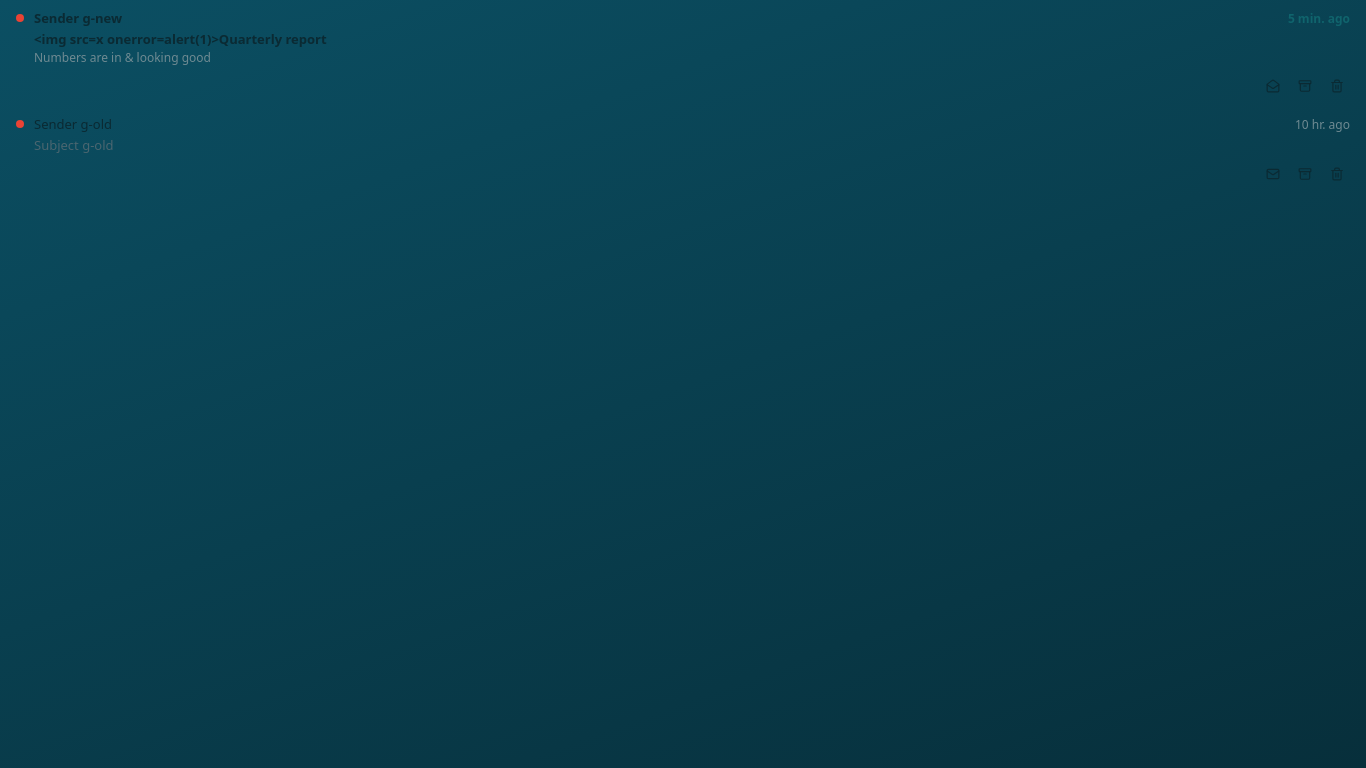
Test: MailWidget › trash is optimistic and rolled back with an error toast when it fails
Expected: the text "Sender g-new" is shown, [34, 9, 122, 27]
Click the button named "Move to trash" below "5 min. ago" at [1337, 86], box [1322, 71, 1352, 101]
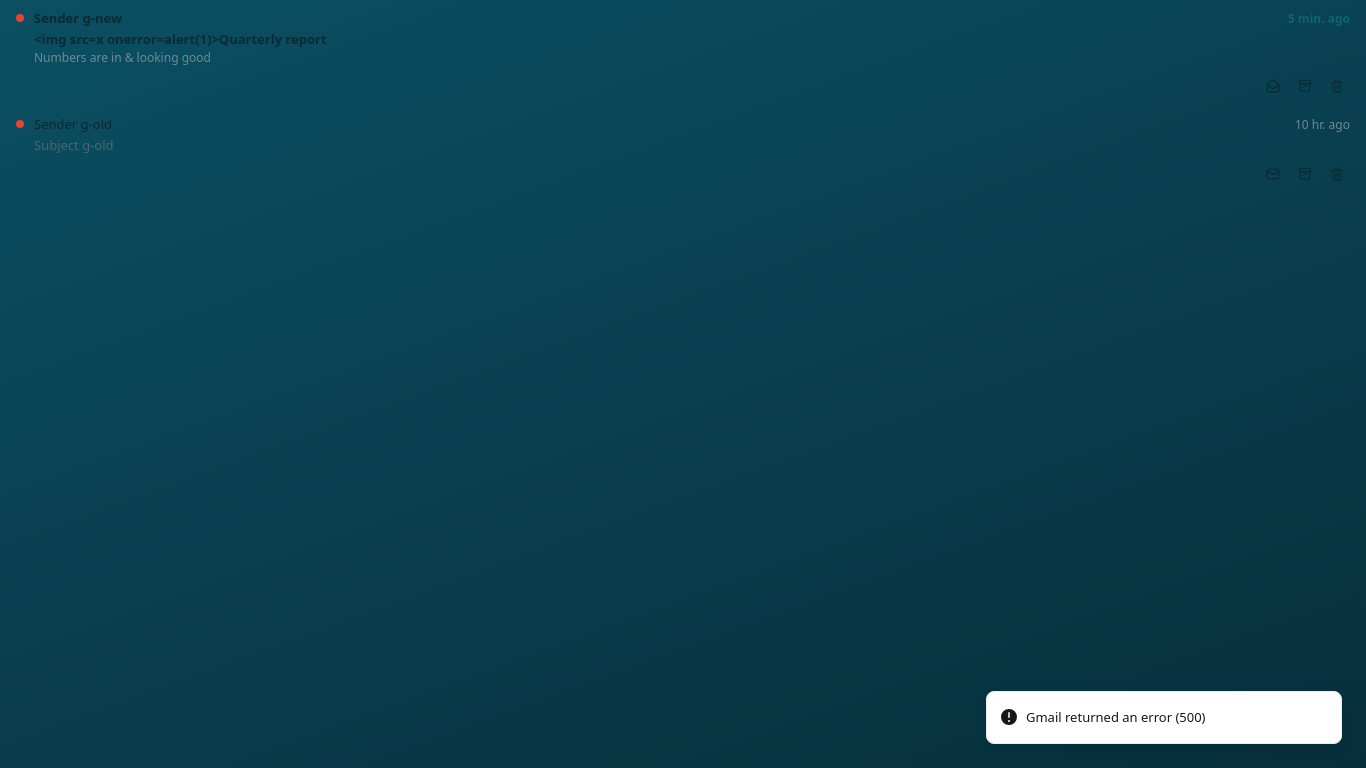
Expected: the text "Sender g-new" is shown, [34, 9, 122, 27]
Result: the text "Gmail returned an error (500)" is shown at [1026, 708, 1206, 727]
